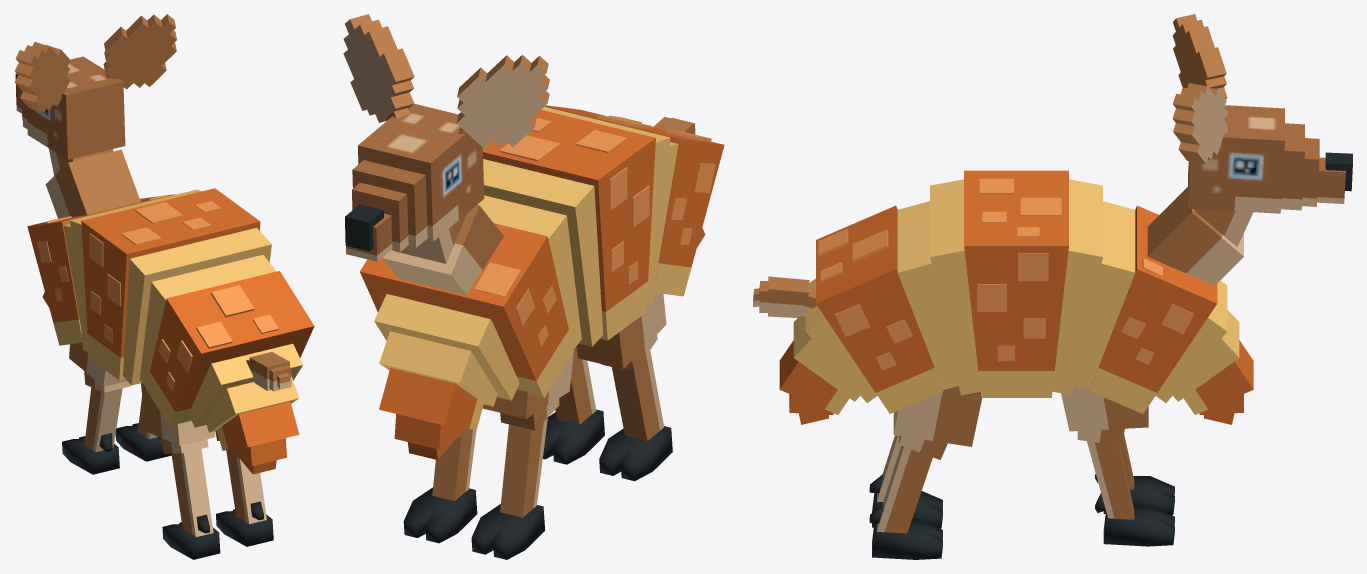
File: bambiniCrostini.fbx
The picture shows the model from 3 angles, left to right: view 1: azimuth 30°, elevation 25°; view 2: azimuth 150°, elevation 25°; view 3: azimuth 270°, elevation 25°; orthographic projection. The views are drawn at different scales.
Parts seen in each view (by area): view 1: bambiniCrostini; view 2: bambiniCrostini; view 3: bambiniCrostini.
Part boxes in pixels (x1,y1,x2,y2): bambiniCrostini: (14, 14, 314, 559); bambiniCrostini: (343, 14, 724, 559); bambiniCrostini: (753, 14, 1352, 559).
Bounding box in the file's own units: 272 × 672 × 760.
